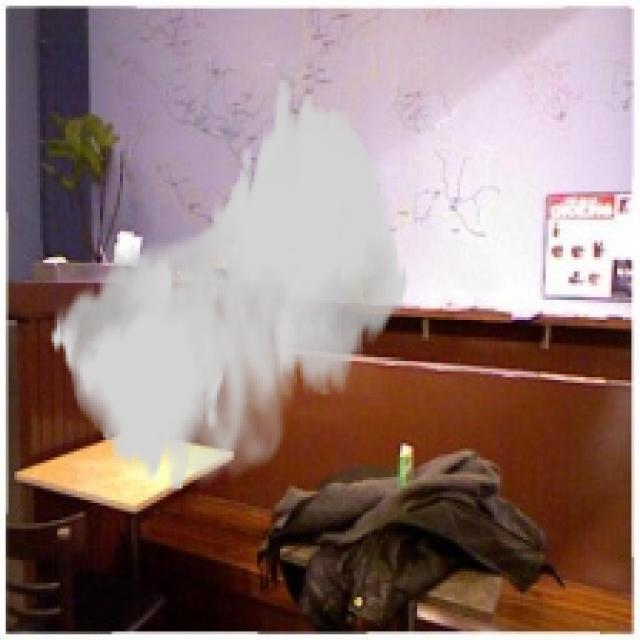Smoke: (49, 80, 408, 492)
